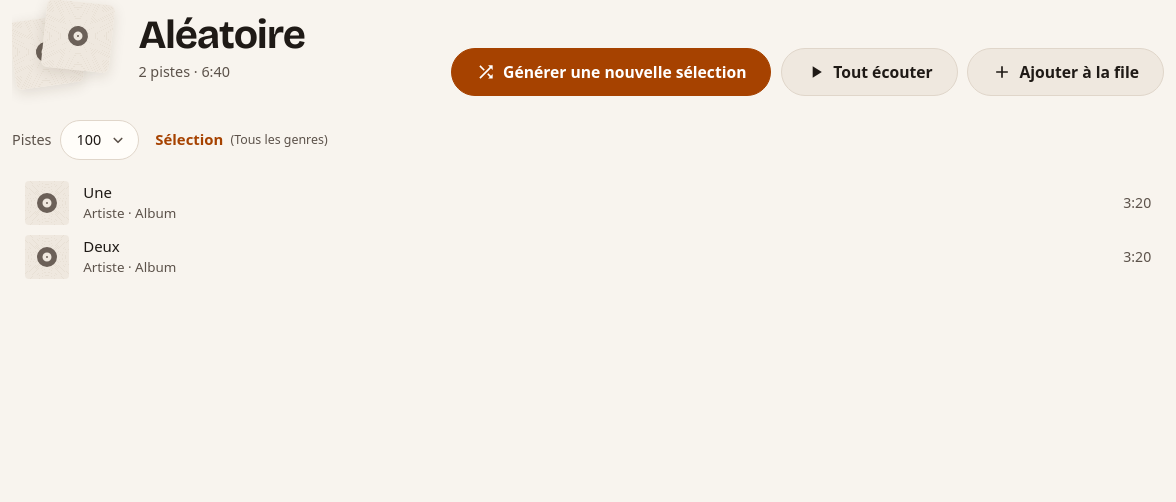
page Aléatoire › aucun genre coché : pas de tirage possible
Expected: the text "Une" is shown, 83,182 -> 112,202
Click the button "Sélection (Tous les genres)" at (241, 140), box 155,126 -> 328,154
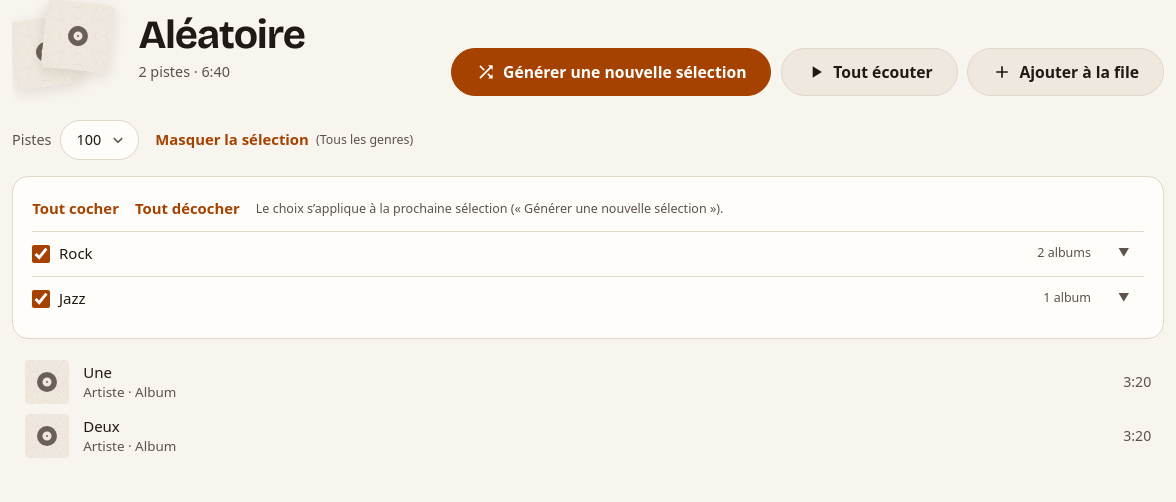
Expected: the checkbox labelled "Jazz" is shown, 32,290 -> 50,308
Click the button "Tout décocher" at (187, 209), box 135,195 -> 240,222
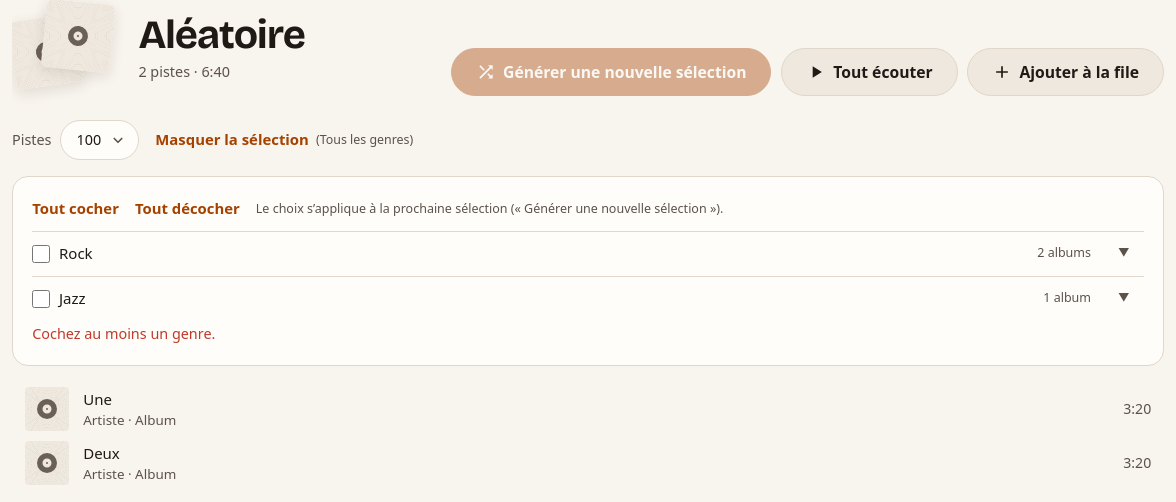
Expected: the button "Générer une nouvelle sélection" is disabled, 451,48 -> 771,96
Expected: the text "Cochez au moins un genre." is shown, 32,324 -> 215,343
